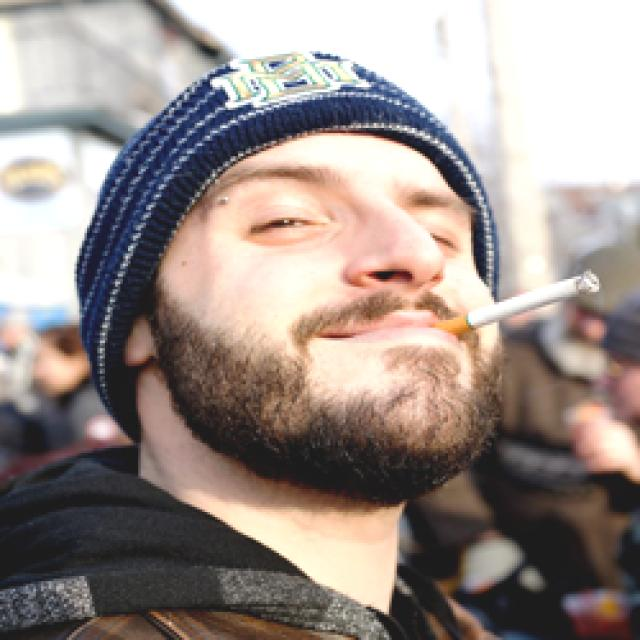Smooking: (442, 253, 600, 334)
